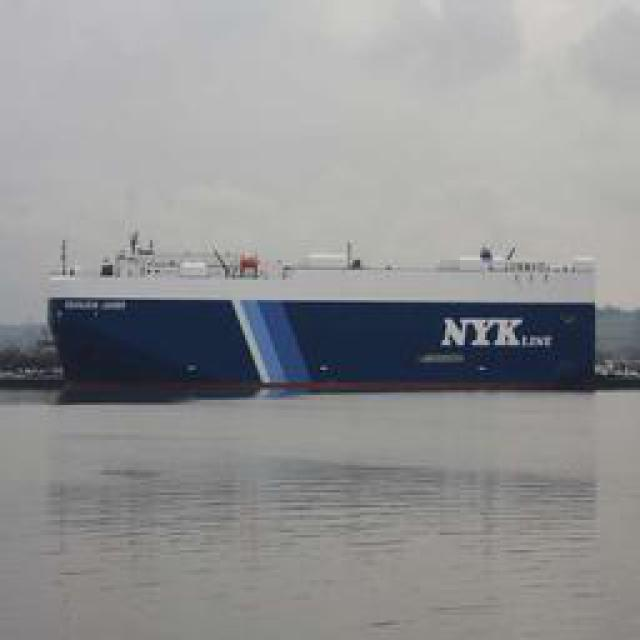Ship: (46, 229, 631, 389)
